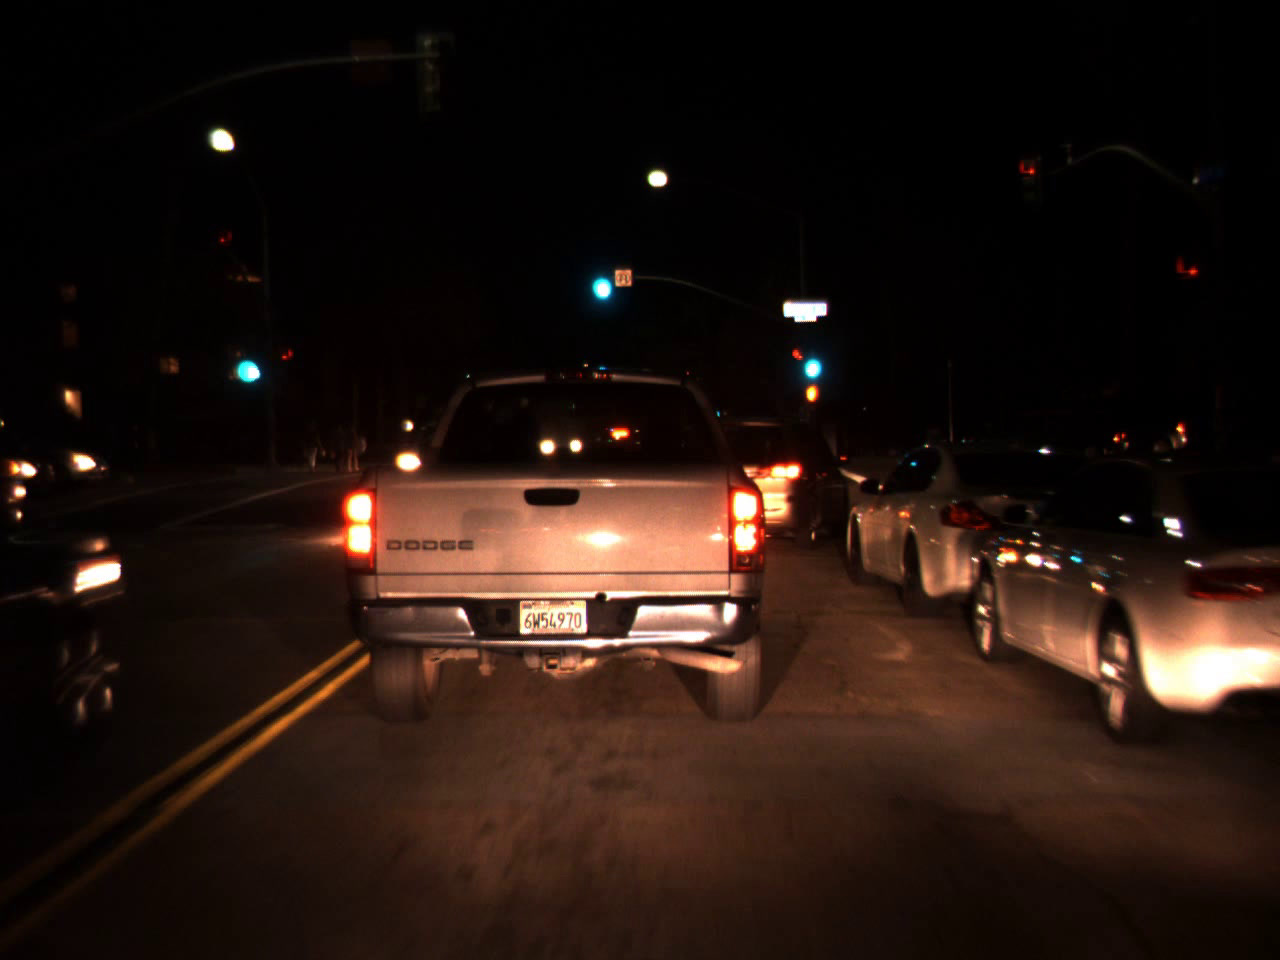go: (228, 332, 262, 392), (585, 250, 615, 307), (797, 333, 824, 387)
